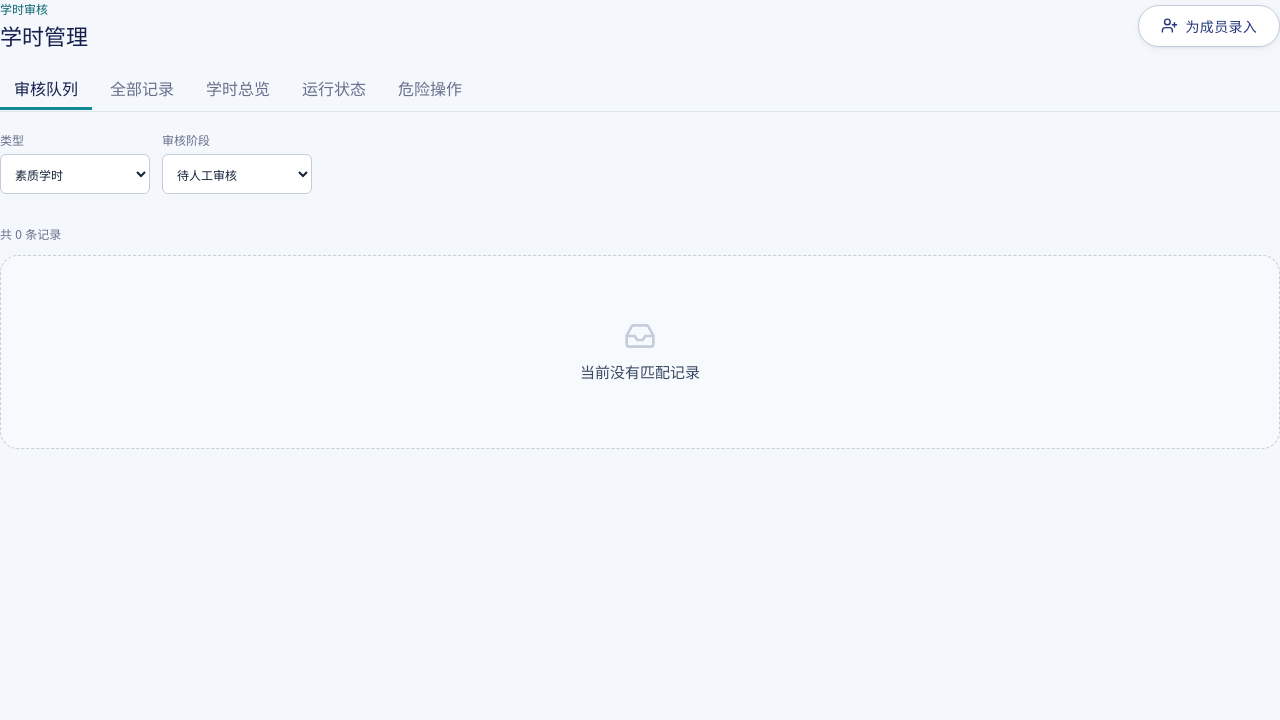
Test: AdminCreditHours overview › creates an approved evidence-free record for another active user
The width and height of the screenshot is (1280, 720).
Click the button with class "create-button" at (1209, 26), box top-left (1138, 5), bottom-right (1279, 47)
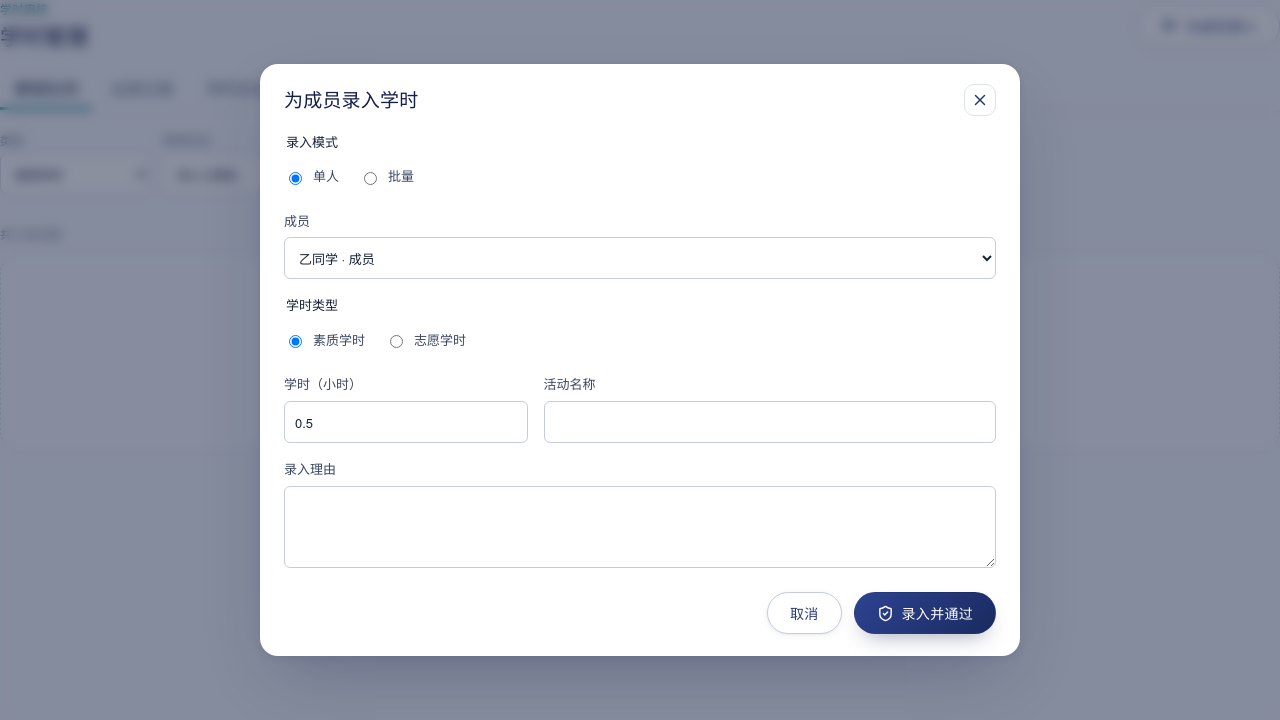
Click the radio button labelled "志愿学时" at (396, 342), box top-left (390, 335), bottom-right (403, 348)
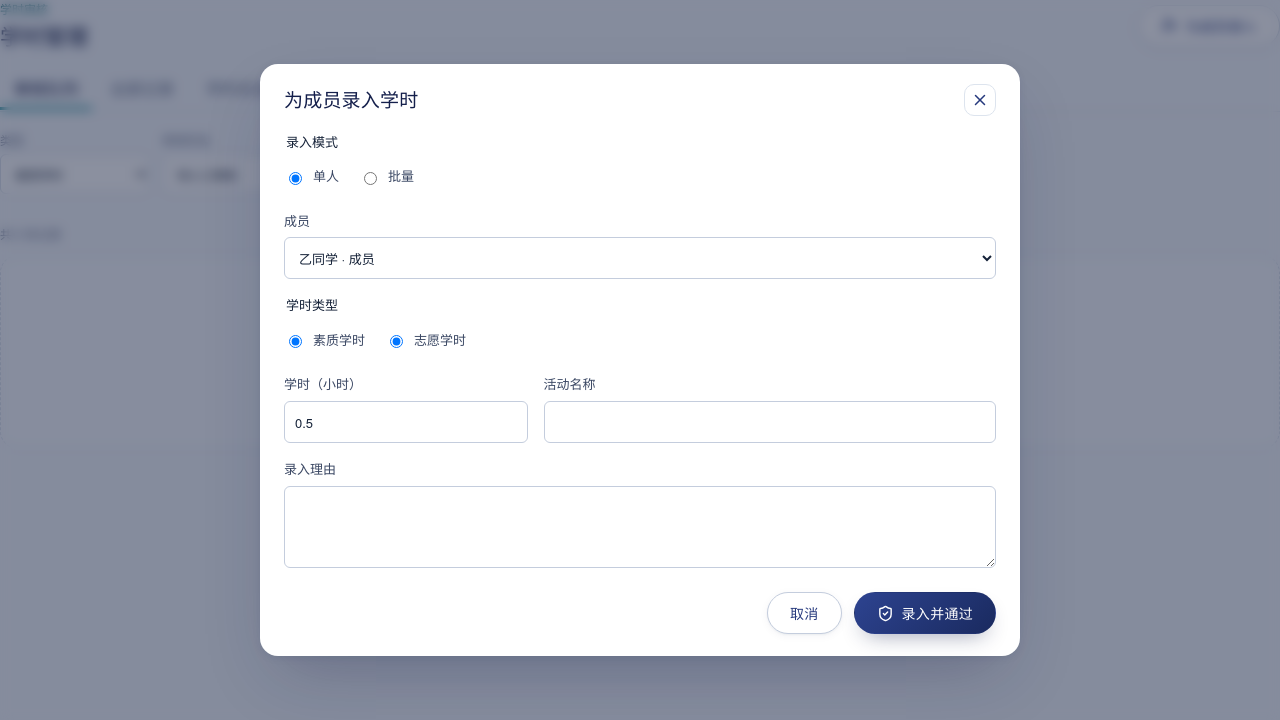
Replace the text in the number field with id "credit-hours" with "1000" at (406, 422), box top-left (284, 401), bottom-right (528, 443)
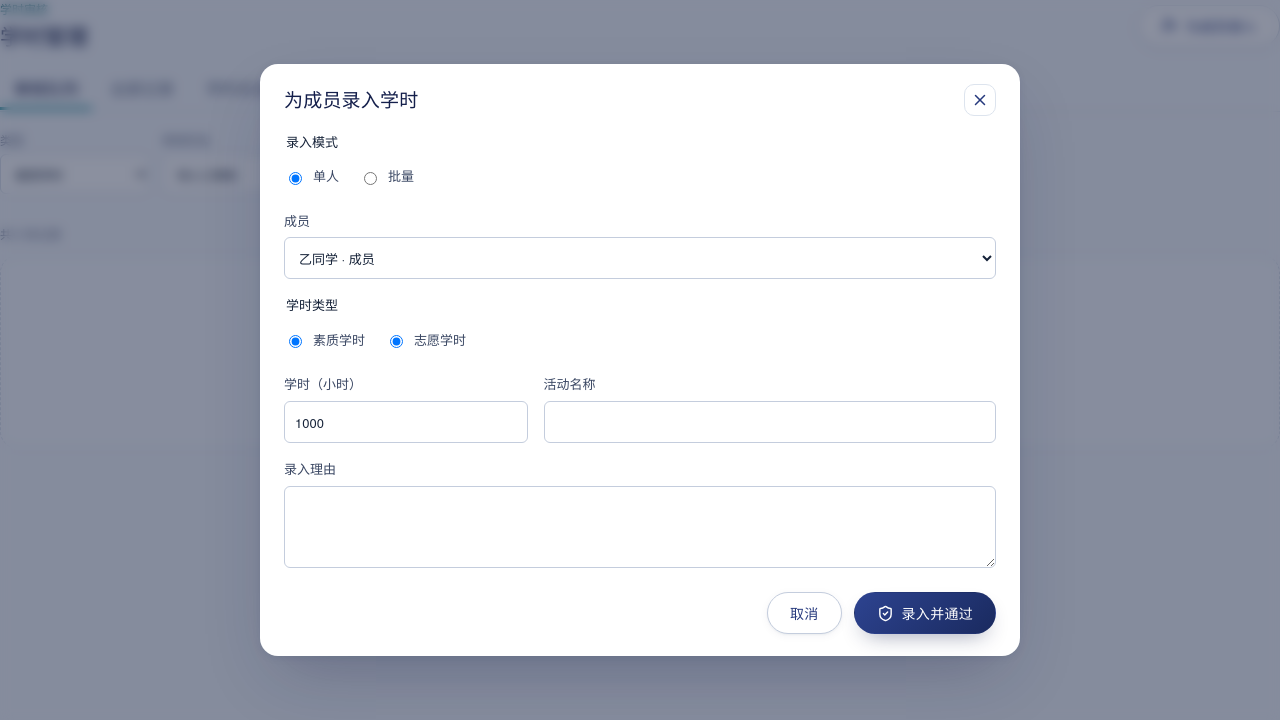
Type "校内志愿活动" into the field with id "credit-activity" at (770, 422), box top-left (544, 401), bottom-right (996, 443)
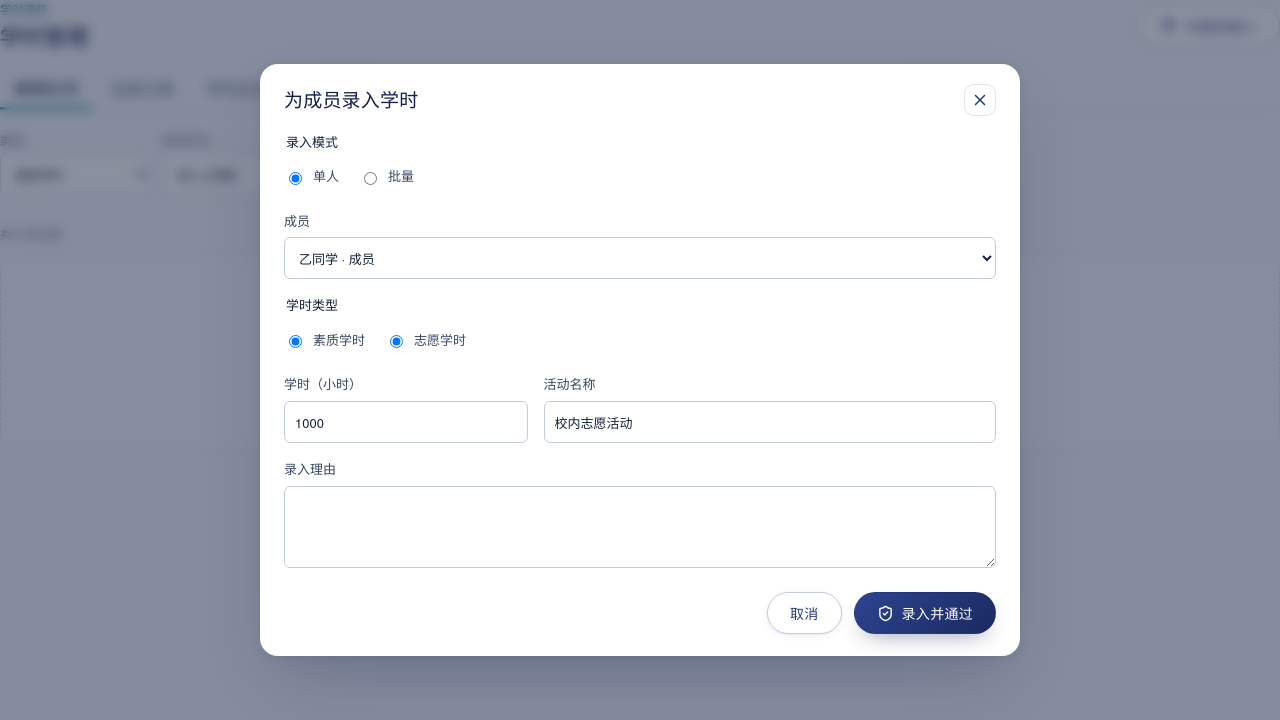
Type "管理员核验后录入" into the text box with id "credit-description" at (640, 527), box top-left (284, 486), bottom-right (996, 568)
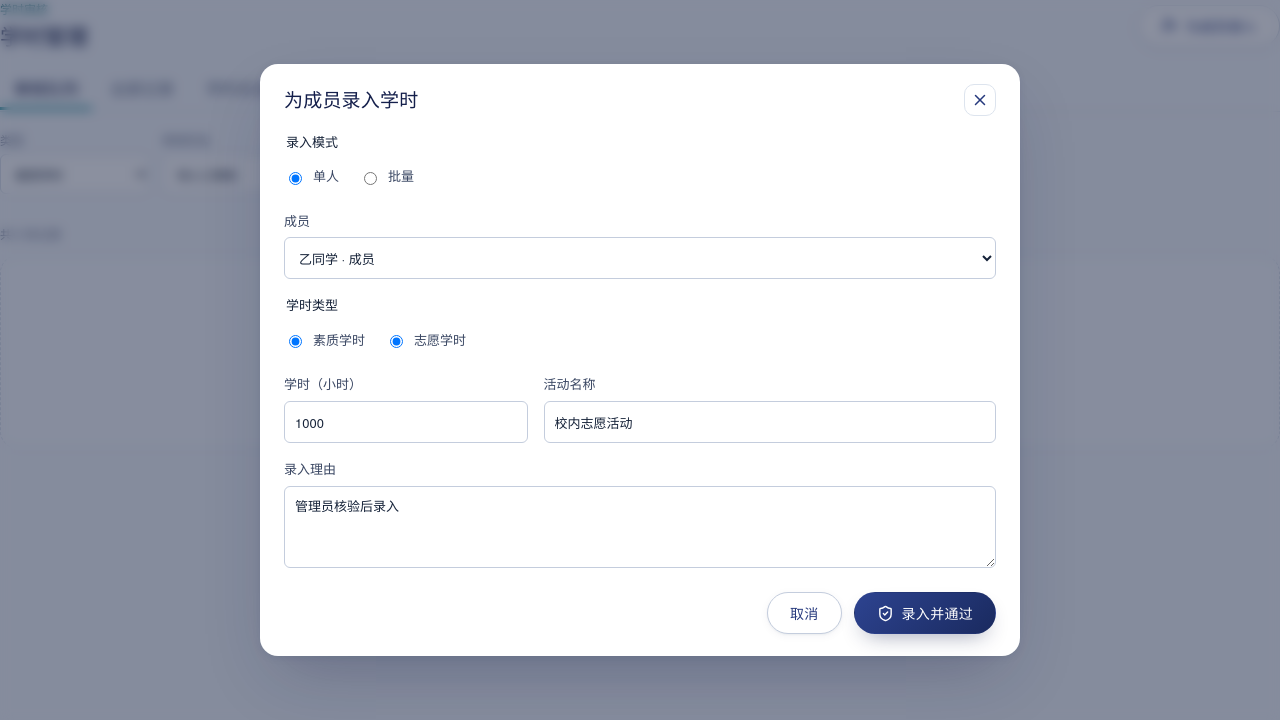
Submit the form with id "admin-credit-hour-create", box top-left (284, 132), bottom-right (996, 568)
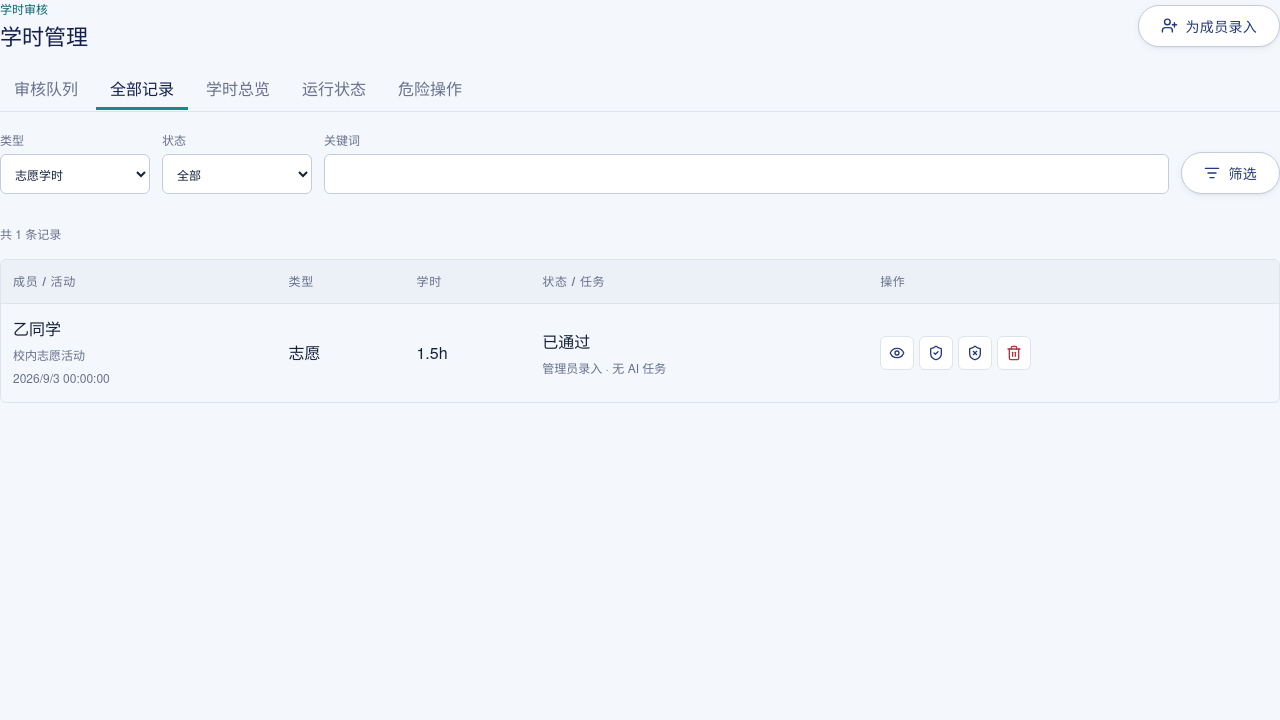
expect the text "管理员录入 · 无 AI 任务" is shown: met, box top-left (542, 359), bottom-right (666, 376)
